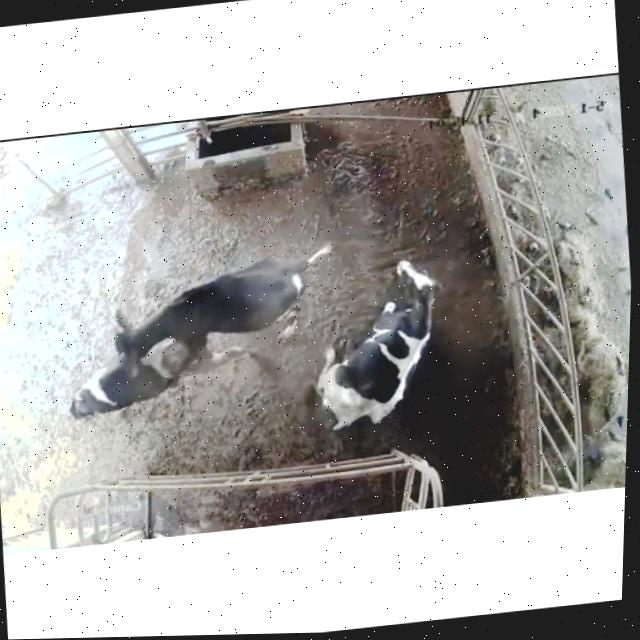lay: (298, 238, 465, 442)
ride: (91, 237, 333, 380)
stand: (49, 332, 194, 435)
